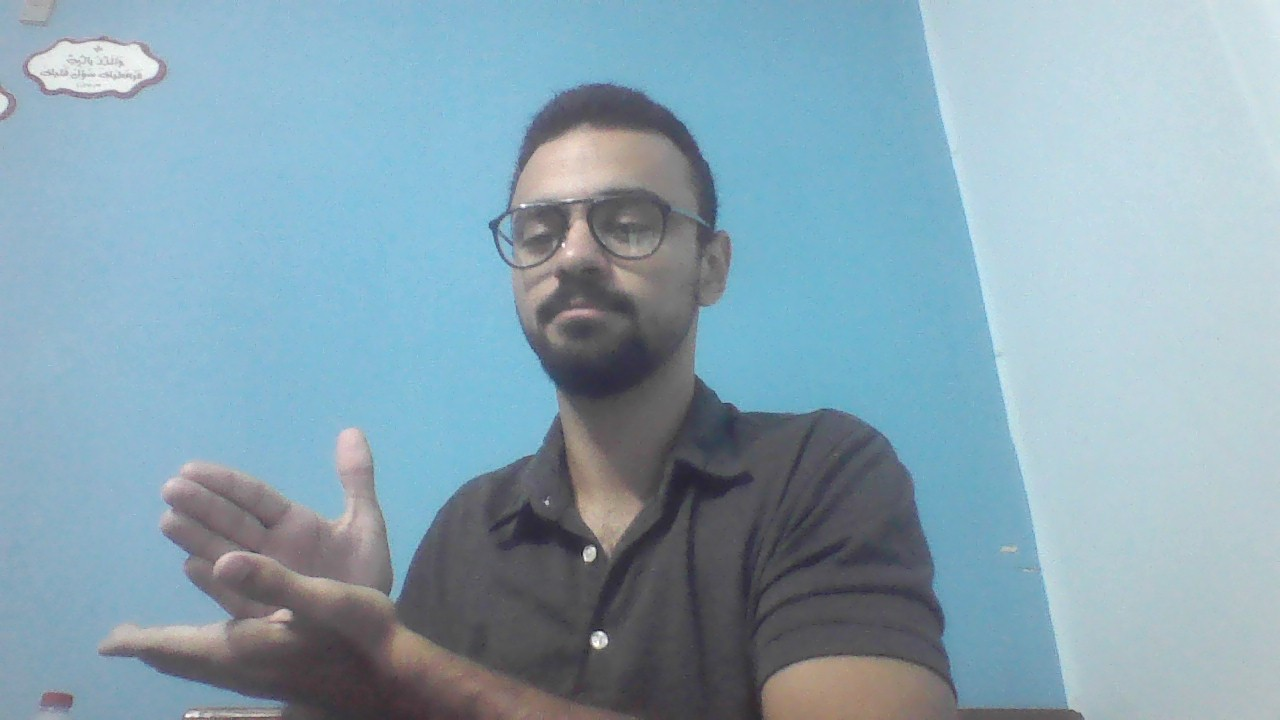stop: (99, 422, 409, 707)
